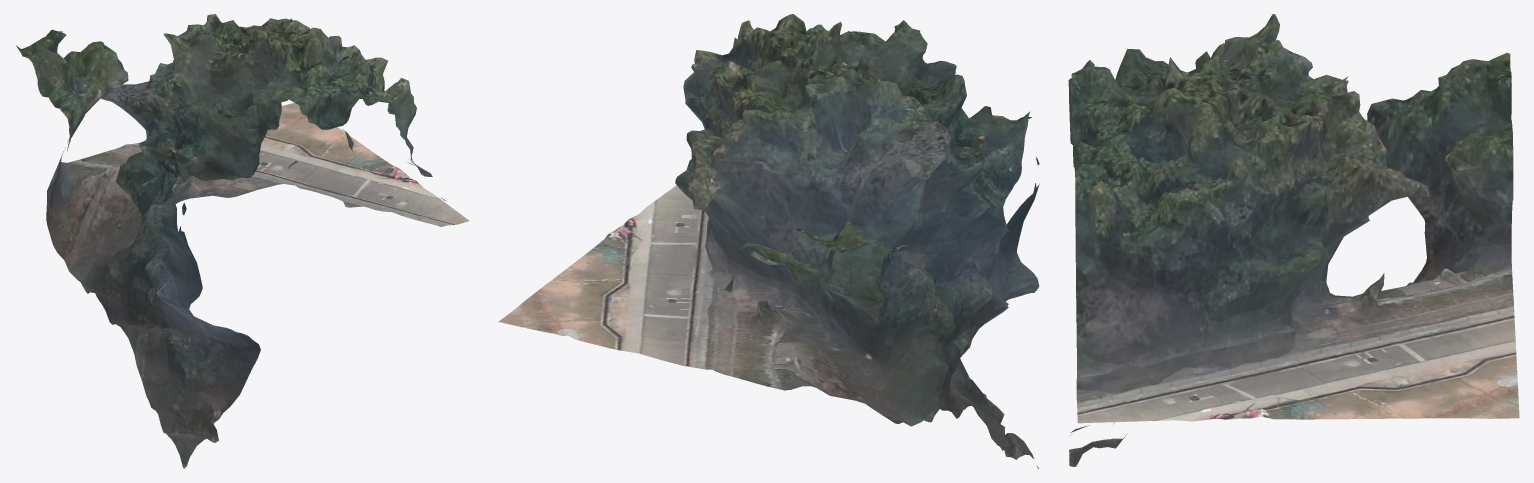
Rendered from Tile_+011_+009_L20_000003220t1.glb.
3 renders of one model, left to right at view 1: azimuth 30°, elevation 25°; view 2: azimuth 150°, elevation 25°; view 3: azimuth 270°, elevation 25°, orthographic. The views are drawn at different scales.
Parts seen in each view (by area): view 1: rtc; view 2: rtc; view 3: rtc.
Part boxes in pixels (x1=…): rtc: x1=16, y1=14, x2=469, y2=468; rtc: x1=498, y1=14, x2=1039, y2=468; rtc: x1=1068, y1=14, x2=1519, y2=466.
Bounding box in the file's own units: 32.68 × 39.1 × 32.15.
1 material, 1 textured.
